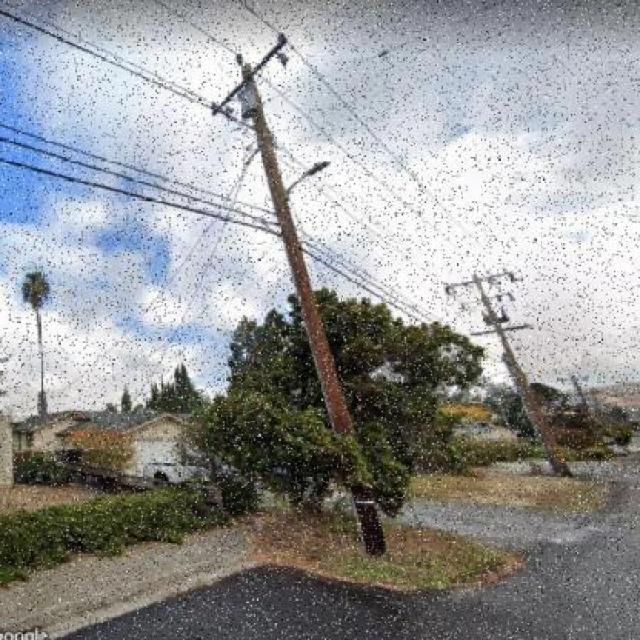pole: (200, 10, 394, 573), (440, 244, 578, 478)
